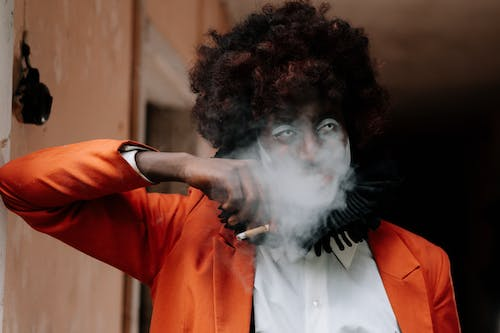cigarette: (235, 222, 271, 241)
